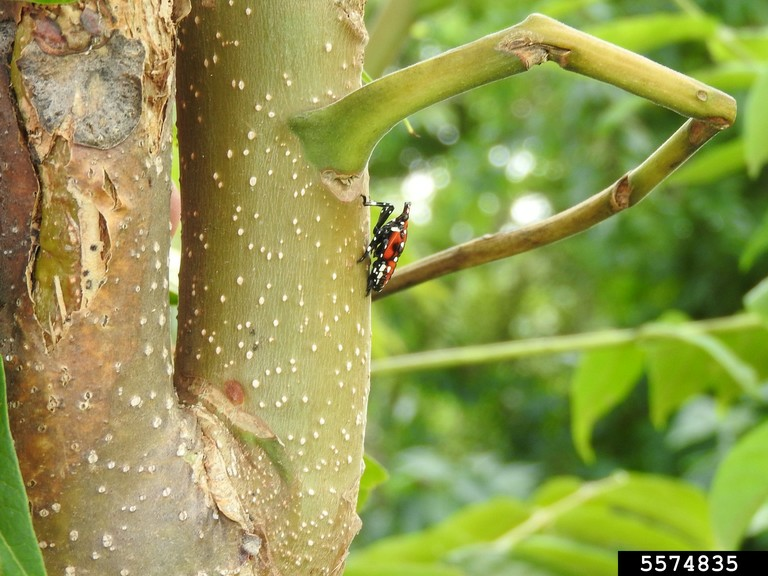instar nymph (4): (350, 181, 406, 289)
